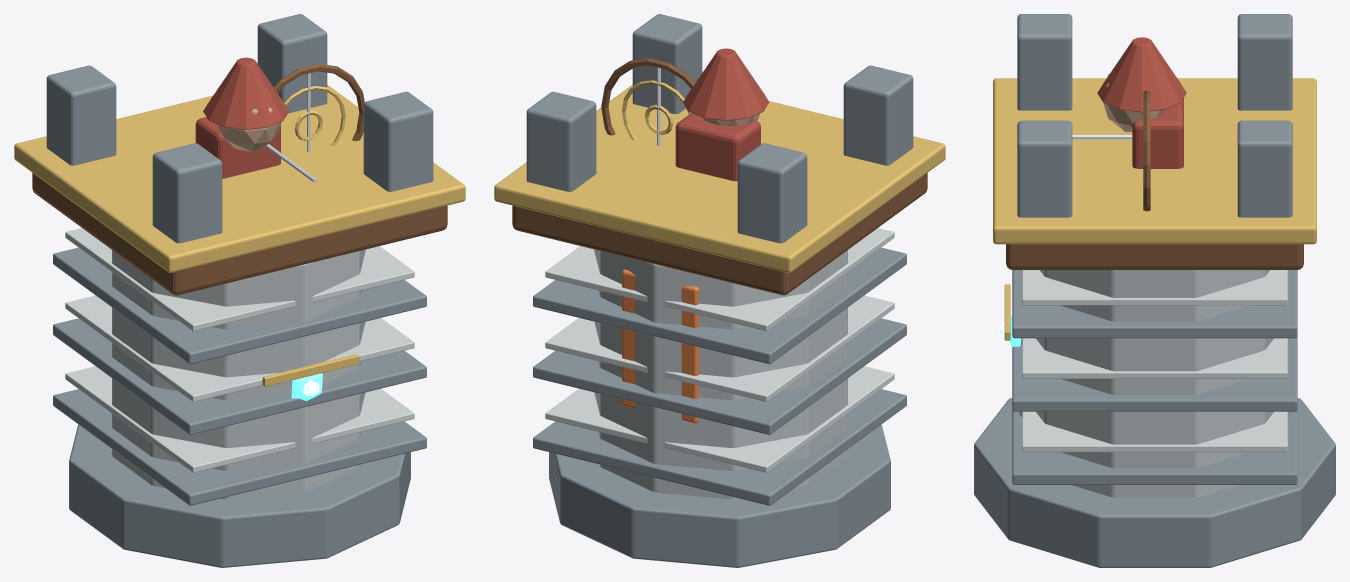
File: archer_tower.glb
3 renders of one model, left to right at view 1: azimuth 30°, elevation 25°; view 2: azimuth 150°, elevation 25°; view 3: azimuth 270°, elevation 25°, orthographic. The views are drawn at different scales.
Visible parts, largest first — view 1: PlatformTrim, Body.003, Foundation, MasonryBand0.52, MasonryBand1.52, Platform, MasonryBand1.02, Merlon-0.780.68, Merlon-0.78-0.68, Merlon0.78-0.68, ArrowTowerRail0.7, ArrowTowerRail1.7 (+7 smaller); view 2: PlatformTrim, Body.003, Foundation, MasonryBand0.52, MasonryBand1.52, MasonryBand1.02, Platform, Merlon-0.78-0.68, Merlon-0.780.68, Merlon0.780.68, ArrowTowerRail0.7, ArrowTowerRail1.2 (+6 smaller); view 3: PlatformTrim, Foundation, Body.003, MasonryBand1.52, MasonryBand0.52, MasonryBand1.02, Platform, Merlon0.78-0.68, Merlon0.780.68, Merlon-0.78-0.68, Merlon-0.780.68, ArrowTowerRail0.7 (+6 smaller).
Part boxes in pixels (left/top/right/bottom): PlatformTrim: left=14, top=85, right=465, bottom=272; Body.003: left=112, top=249, right=365, bottom=499; Foundation: left=69, top=424, right=410, bottom=567; MasonryBand0.52: left=53, top=389, right=426, bottom=505; MasonryBand1.52: left=53, top=247, right=426, bottom=364; Platform: left=32, top=173, right=447, bottom=295; MasonryBand1.02: left=53, top=318, right=426, bottom=434; Merlon-0.780.68: left=46, top=65, right=116, bottom=165; Merlon-0.78-0.68: left=152, top=143, right=222, bottom=243; Merlon0.78-0.68: left=363, top=91, right=433, bottom=191; ArrowTowerRail0.7: left=65, top=366, right=414, bottom=472; ArrowTowerRail1.7: left=65, top=228, right=414, bottom=331; PlatformTrim: left=494, top=85, right=945, bottom=272; Body.003: left=594, top=249, right=847, bottom=499; Foundation: left=549, top=424, right=890, bottom=567; MasonryBand0.52: left=533, top=389, right=906, bottom=505; MasonryBand1.52: left=533, top=247, right=906, bottom=364; MasonryBand1.02: left=533, top=318, right=906, bottom=434; Platform: left=512, top=173, right=927, bottom=295; Merlon-0.78-0.68: left=843, top=65, right=913, bottom=165; Merlon-0.780.68: left=737, top=143, right=807, bottom=243; Merlon0.780.68: left=526, top=91, right=596, bottom=191; ArrowTowerRail0.7: left=545, top=366, right=894, bottom=472; ArrowTowerRail1.2: left=545, top=295, right=894, bottom=401; PlatformTrim: left=993, top=78, right=1316, bottom=244; Foundation: left=974, top=398, right=1335, bottom=567; Body.003: left=1019, top=270, right=1290, bottom=497; MasonryBand1.52: left=1012, top=270, right=1297, bottom=338; MasonryBand0.52: left=1012, top=410, right=1297, bottom=484; MasonryBand1.02: left=1012, top=336, right=1297, bottom=411; Platform: left=1006, top=244, right=1303, bottom=269; Merlon0.78-0.68: left=1017, top=120, right=1072, bottom=217; Merlon0.780.68: left=1237, top=120, right=1292, bottom=217; Merlon-0.78-0.68: left=1017, top=14, right=1072, bottom=110; Merlon-0.780.68: left=1237, top=14, right=1292, bottom=110; ArrowTowerRail0.7: left=1022, top=411, right=1287, bottom=452.
Size of the model in its own units: 2.2 by 3.1 by 2.23.
